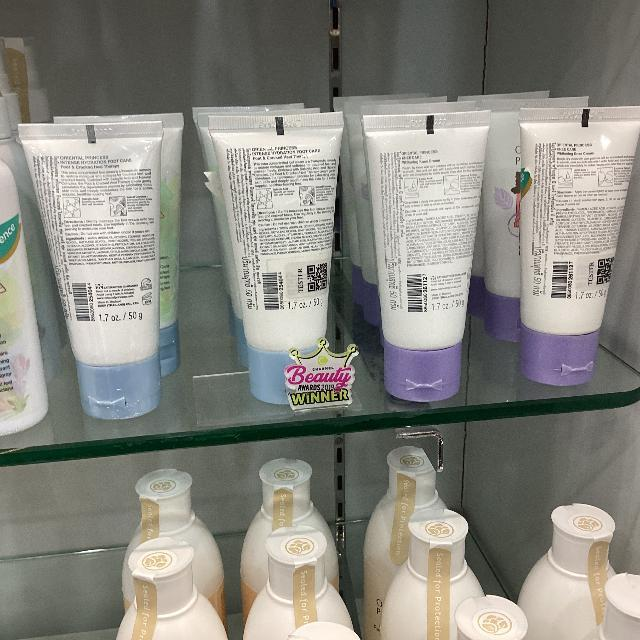Squeeze Tube: (0, 55, 640, 402), (16, 118, 167, 424), (206, 112, 346, 418), (363, 119, 491, 401), (513, 109, 639, 377)
